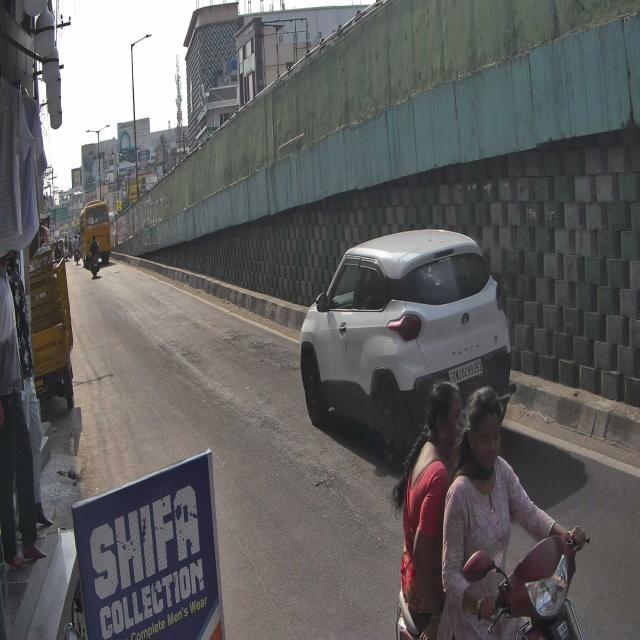double_rider: (394, 375, 593, 640)
